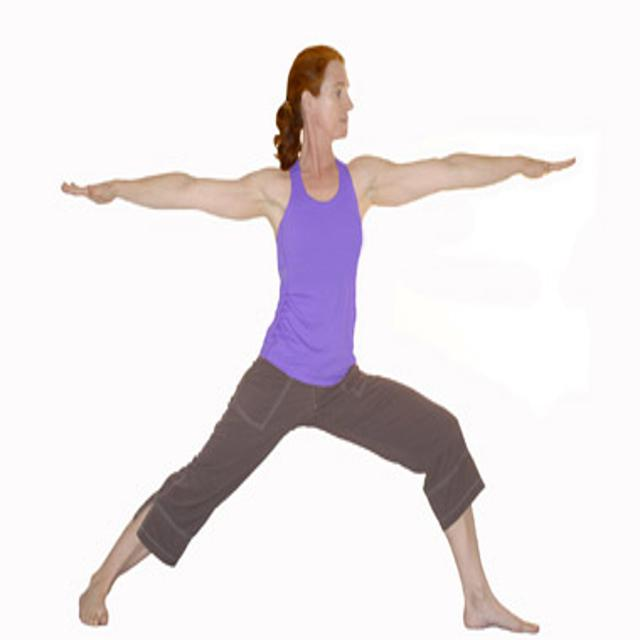Warrior_II: (49, 40, 584, 640)
